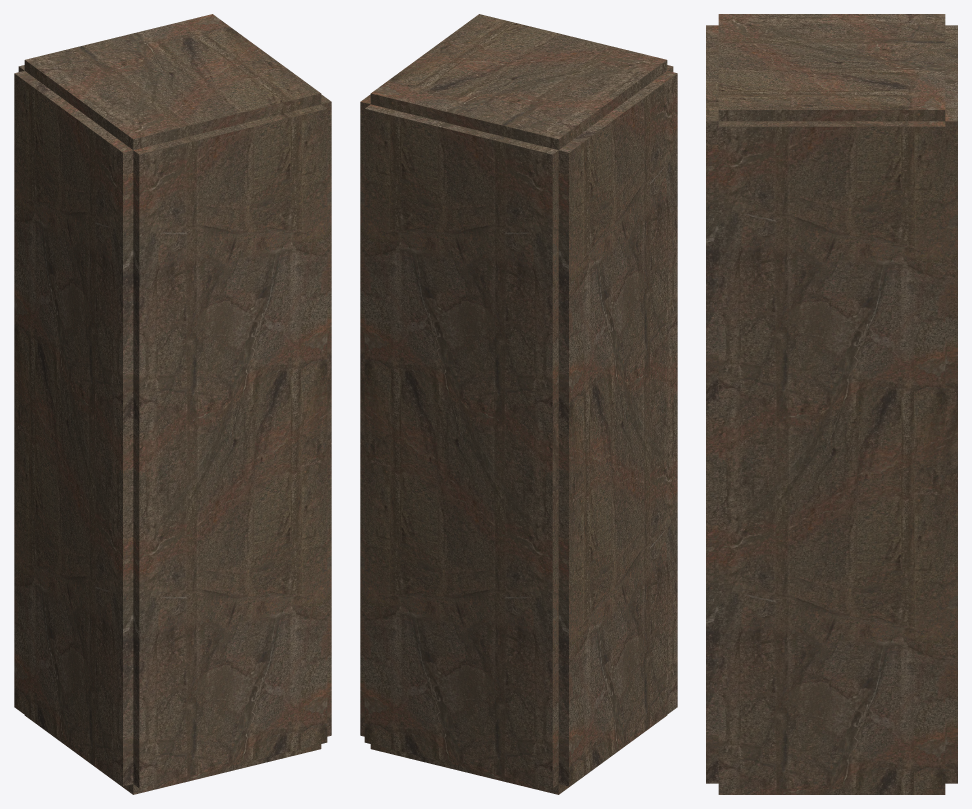
Rendered from crypt_trilithon_leg.glb.
3 renders of one model, left to right at view 1: azimuth 30°, elevation 25°; view 2: azimuth 150°, elevation 25°; view 3: azimuth 270°, elevation 25°, orthographic. The views are drawn at different scales.
Visible parts, largest first — view 1: crypt_trilithon_leg.002; view 2: crypt_trilithon_leg.002; view 3: crypt_trilithon_leg.002.
Boxes of the visible parts, x1,y1,x2,y2 form: crypt_trilithon_leg.002: (14,14,331,794); crypt_trilithon_leg.002: (360,14,677,794); crypt_trilithon_leg.002: (706,14,957,794).
Bounding box in the file's own units: 1.2 × 3.6 × 1.2.
1 material, 1 textured.
